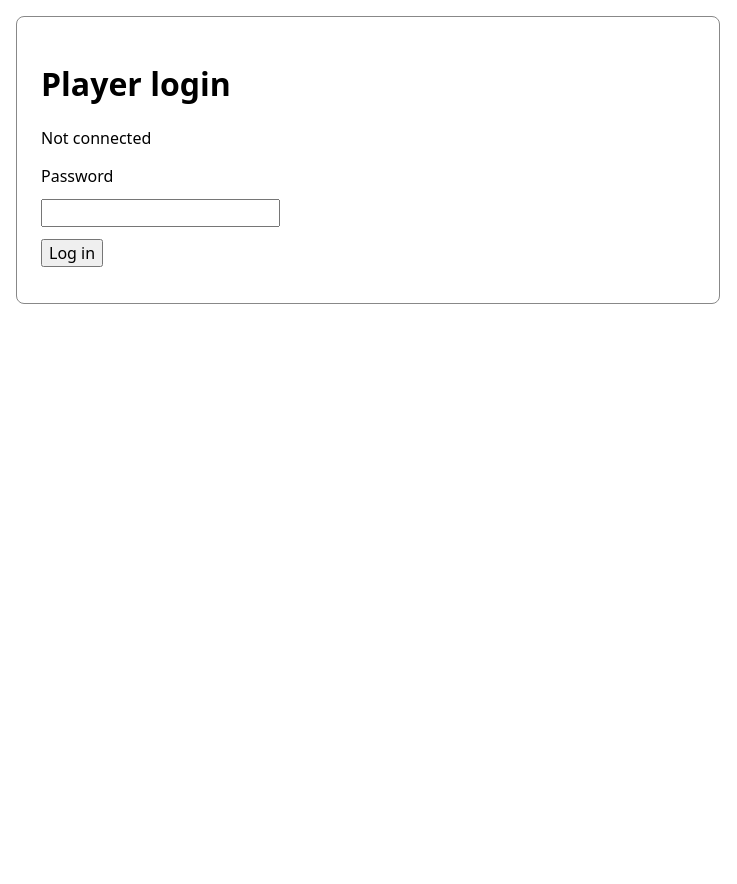
Test: player gameplay projection and interactions › renders 1-PC selector, selected read-only sheet, portrait, and initiative order
The width and height of the screenshot is (737, 884).
Type "never-persist-this" into the password field named "password".
click(160, 213); type("never-persist-this")  # box left=41, top=199, right=280, bottom=227
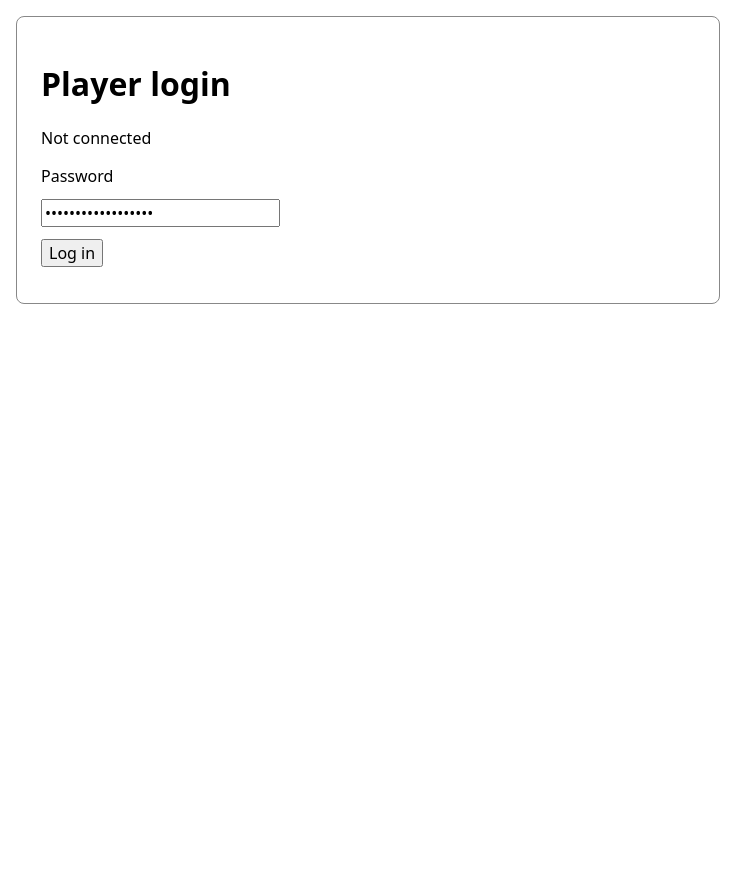
Submit the form, box left=41, top=165, right=280, bottom=267
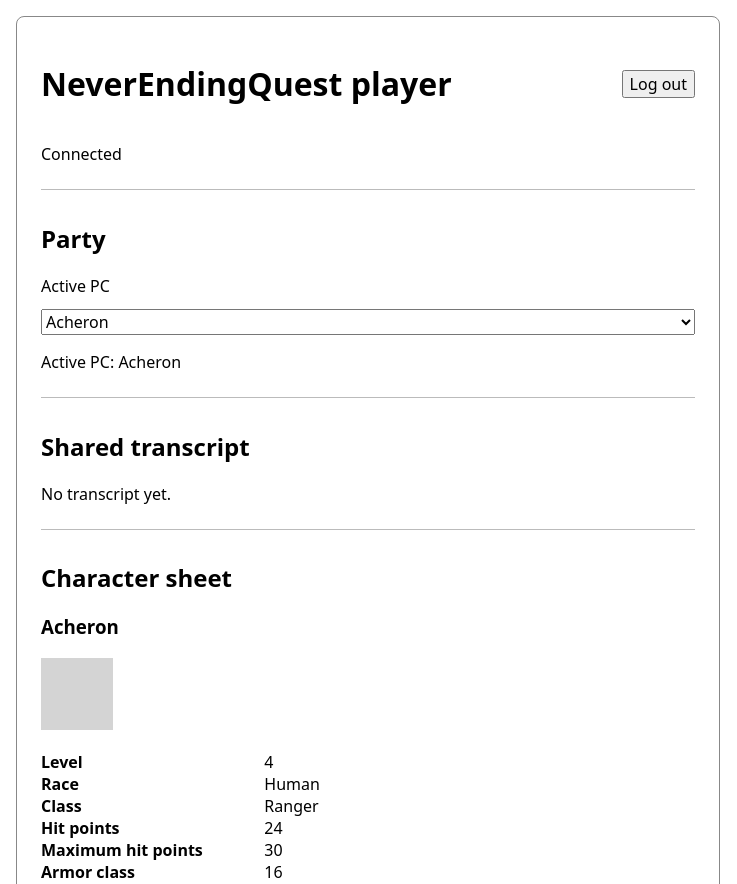
Expected: the dropdown with id "active-pc" shows "Acheron", left=41, top=309, right=695, bottom=335
Expected: the text "Ranger" is shown, left=264, top=795, right=319, bottom=817
